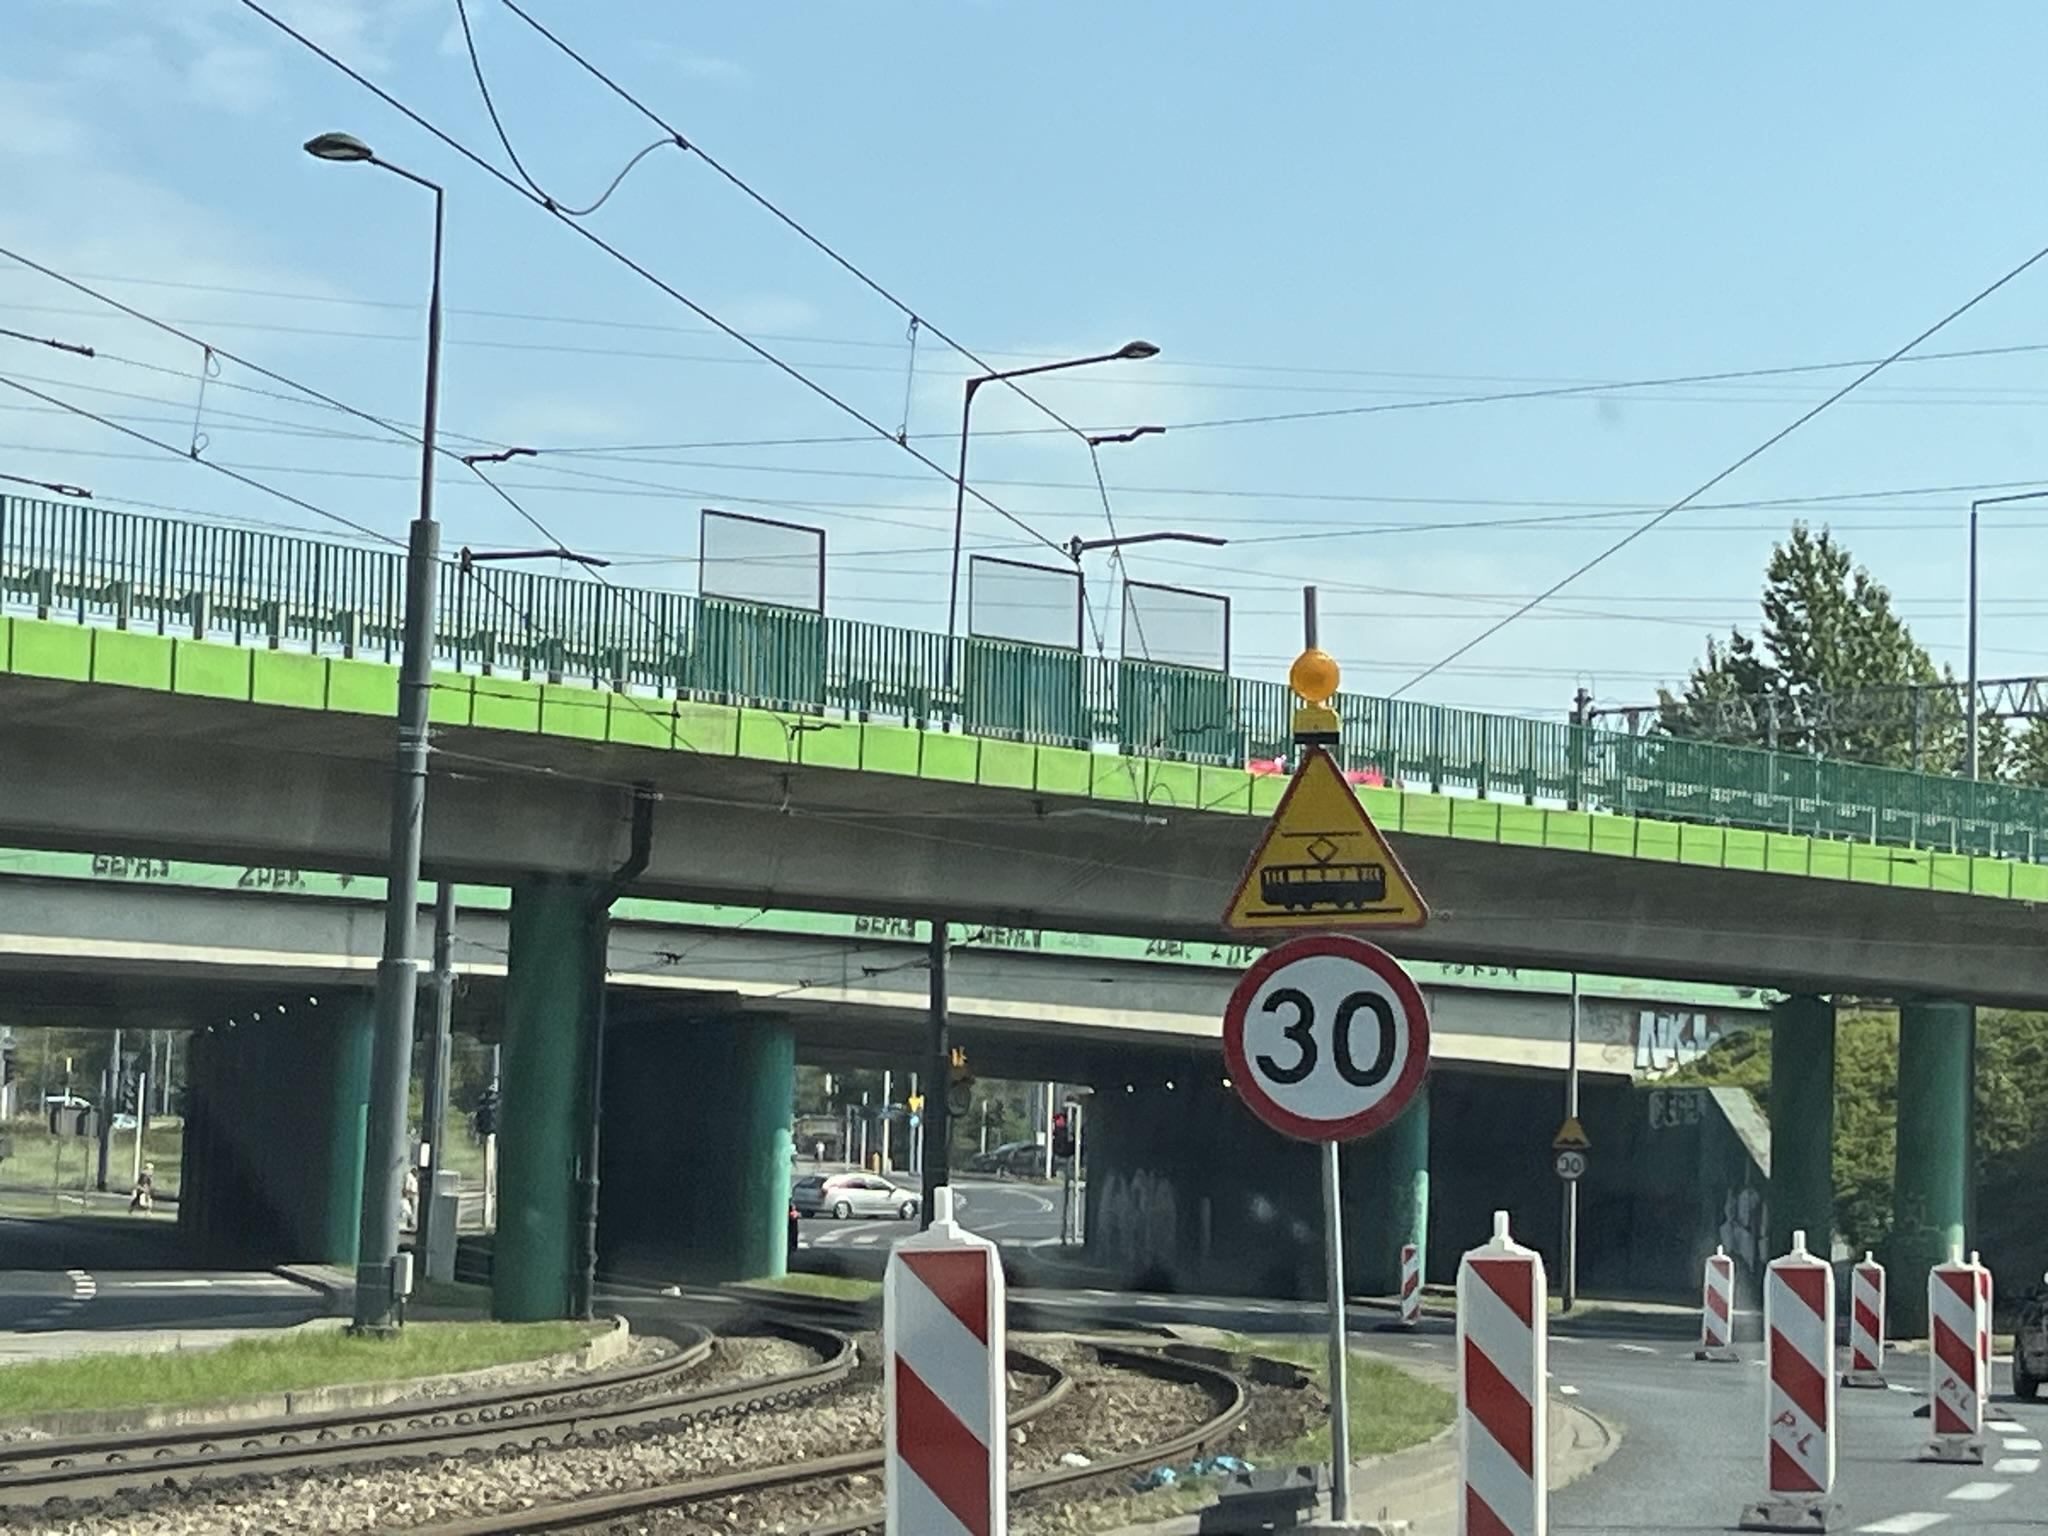prohibitory: (1221, 933, 1435, 1147), (947, 1079, 972, 1118), (1555, 1152, 1587, 1179)
warning: (1221, 747, 1435, 937), (1553, 1117, 1592, 1150)
